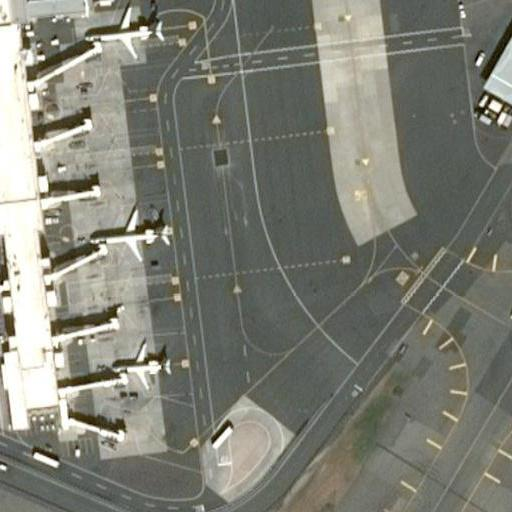Aircraft: (89, 201, 175, 263), (79, 0, 165, 58), (108, 338, 178, 387), (502, 258, 512, 329)
